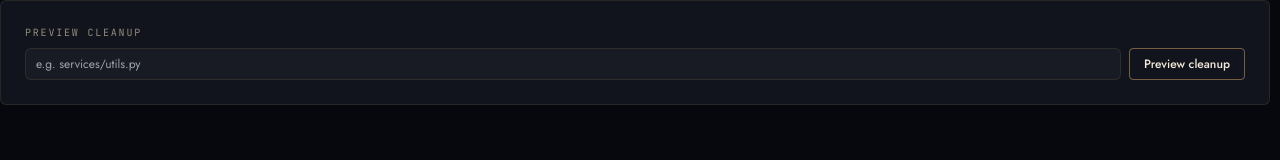
Ticket F-UI · SimplifyFilePanel › a 502 LLM/codegen failure (ok:false, not refused) shows the real reason, never a fake diff
This screenshot has width=1280, height=160.
Type "math_utils.py" into the field with test id "simplify-file-path-input" at (573, 64), box [25,48,1121,80]
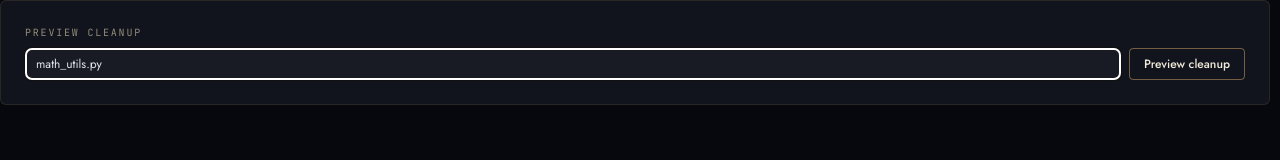
Click the button with test id "simplify-file-preview-btn" at (1187, 64), box [1129,48,1245,80]
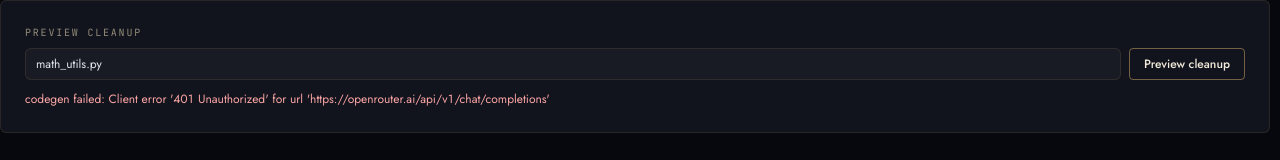
Expected: the message with test id "simplify-file-error" shows "codegen failed", [25,90,550,108]
